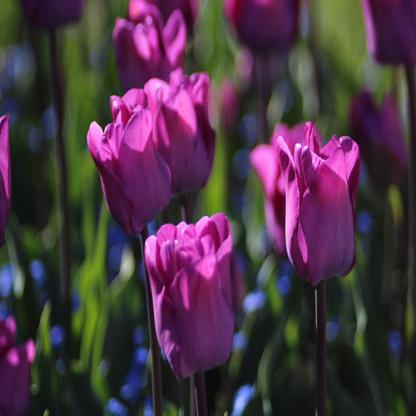TULIP: (78, 7, 366, 382)
